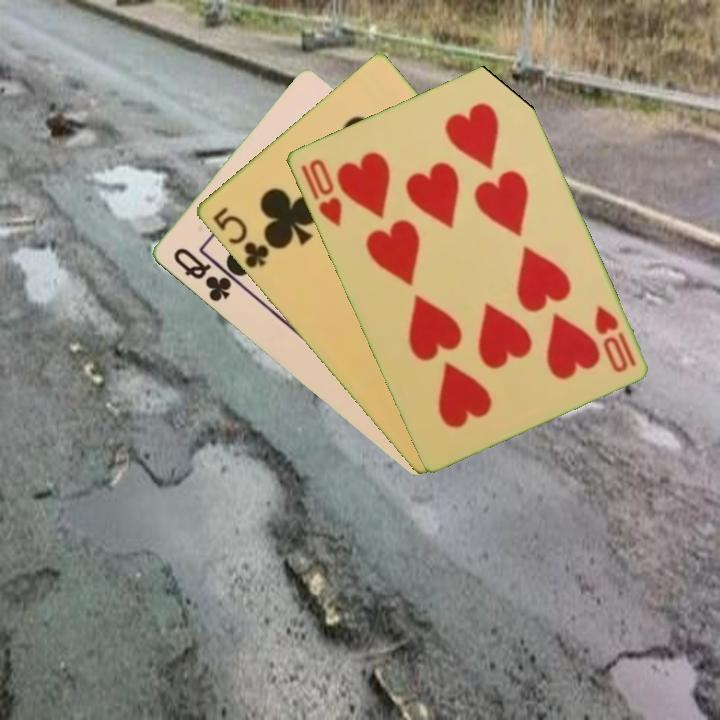10h: (590, 301, 639, 376), (297, 154, 345, 229)
5c: (208, 203, 272, 272)
Qc: (169, 244, 234, 305)
